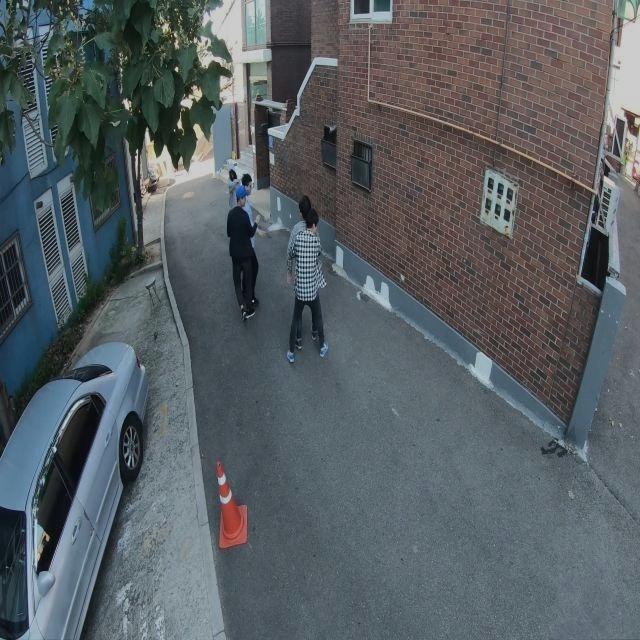non-fight: (283, 197, 327, 363), (225, 182, 262, 321)
